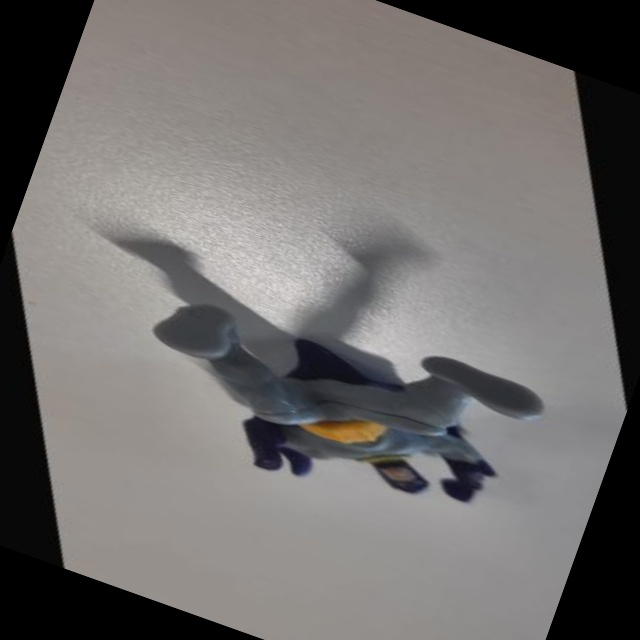Batman: (94, 244, 613, 588)
